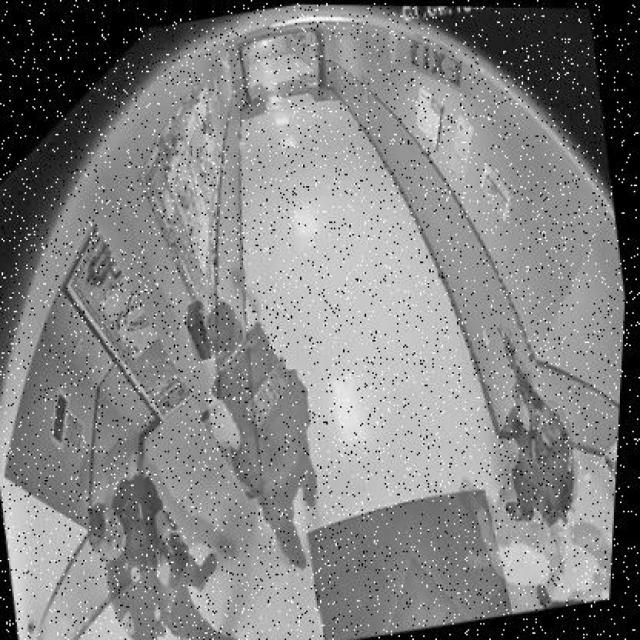weapon: (502, 331, 546, 441)
